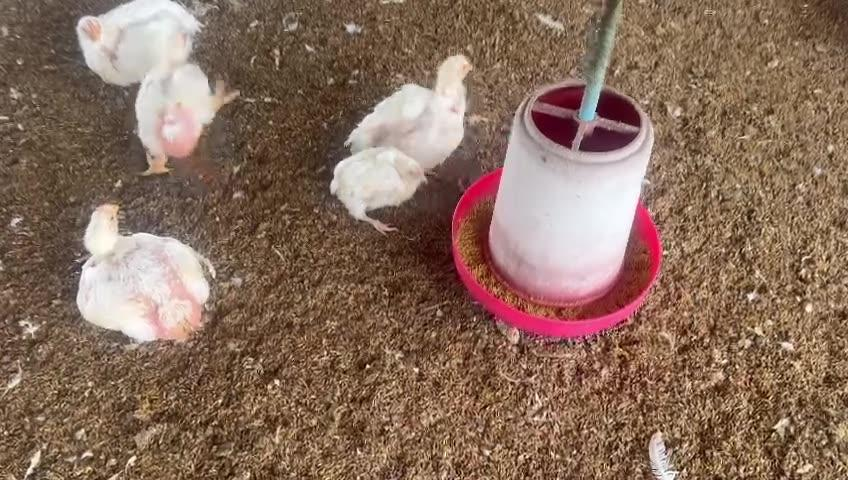AbNormal: (75, 204, 216, 346), (346, 56, 477, 176), (329, 149, 430, 238)
Normal: (136, 29, 231, 176), (77, 0, 194, 82)
